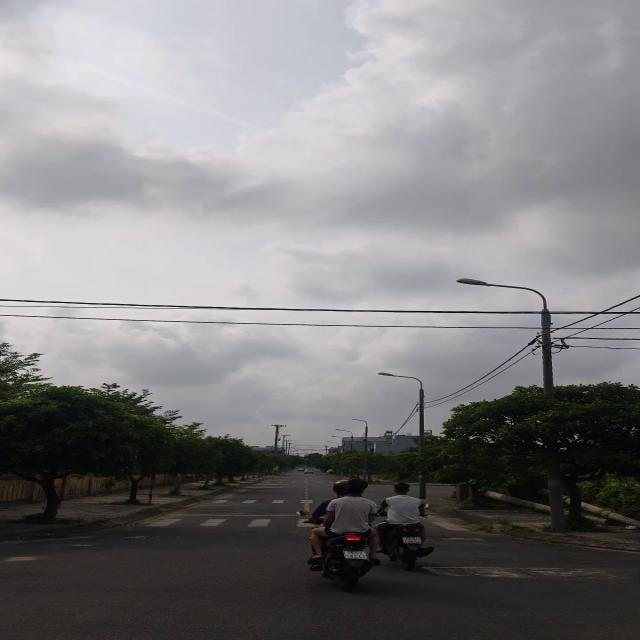with_helmet: (332, 481, 348, 495)
without_helmet: (390, 479, 413, 498)
